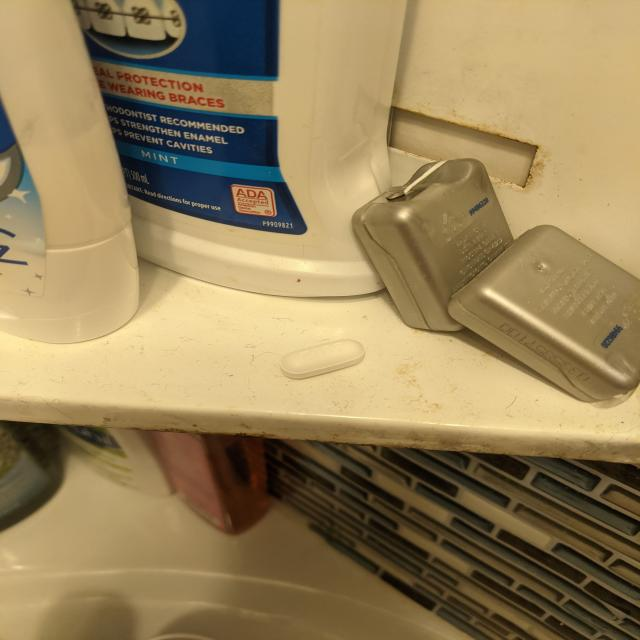non-organic waste: (278, 338, 367, 380)
